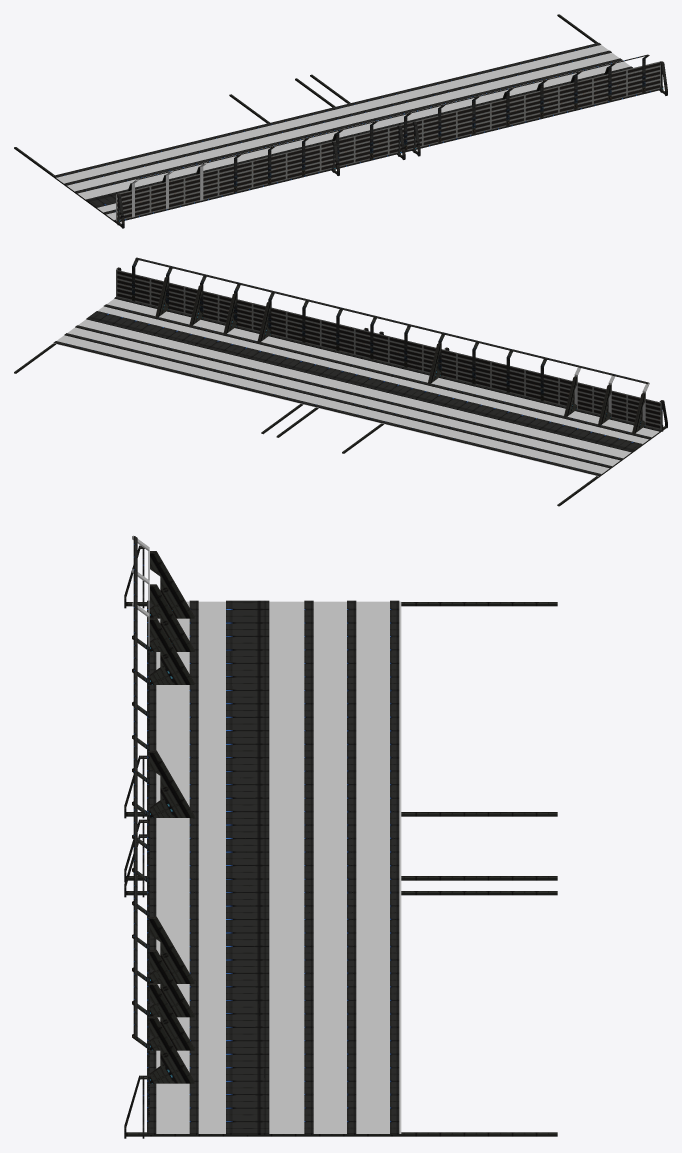
File: Ultra_wire1.fbx
3 views of the same model, one above another, from view 1: azimuth 30°, elevation 25°; view 2: azimuth 150°, elevation 25°; view 3: azimuth 270°, elevation 25° (orthographic). The views are drawn at different scales.
Parts seen in each view (by area): view 1: polySurface485; view 2: polySurface485; view 3: polySurface485.
Boxes of the visible parts, <box> form: polySurface485: <box>14,14,667,228</box>; polySurface485: <box>14,257,667,506</box>; polySurface485: <box>124,535,557,1138</box>.
Bounding box in the file's own units: 50.03 × 3.81 × 17.2.
